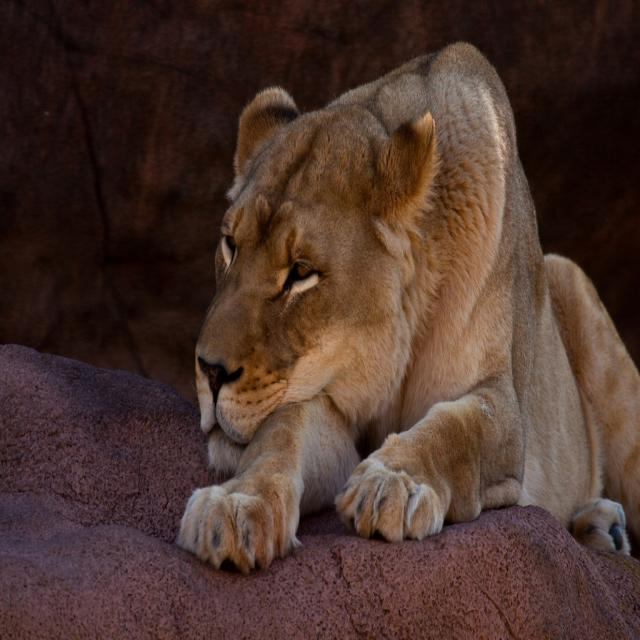lion: (165, 37, 576, 600)
